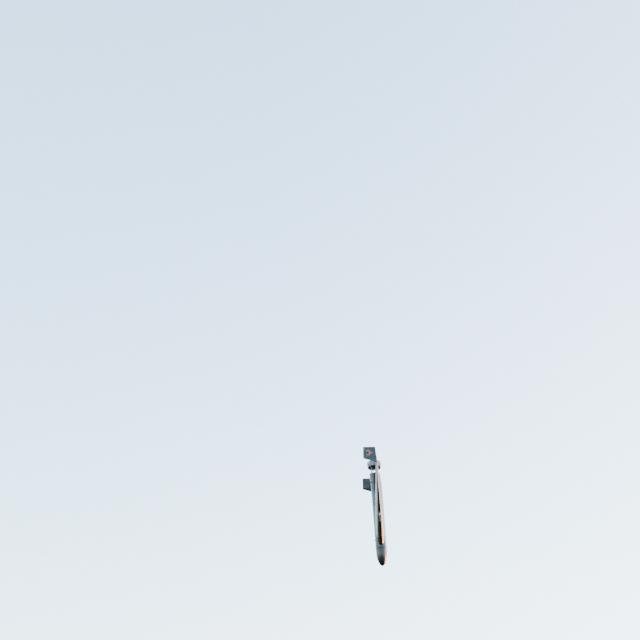Airaplan: (363, 447, 388, 566)
